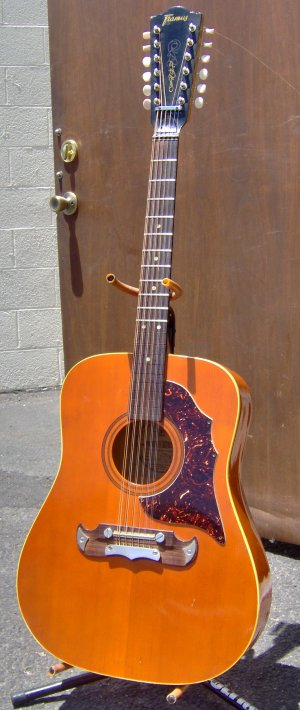guitar: (13, 4, 271, 688)
